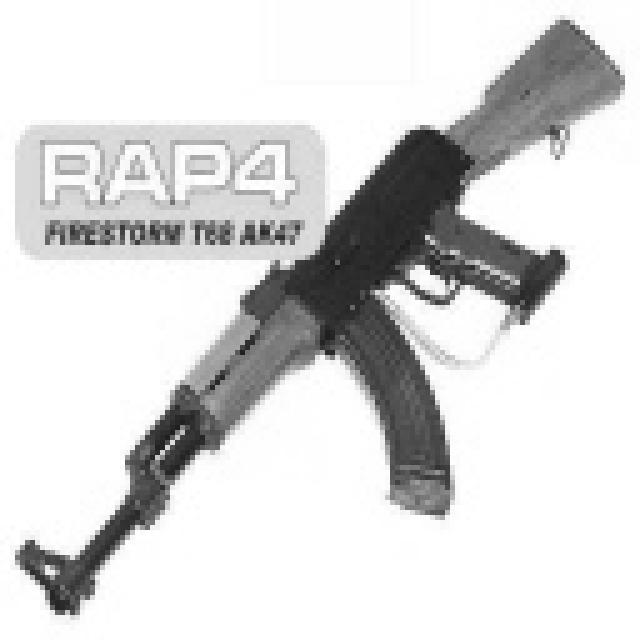Rifle: (14, 2, 640, 640)
